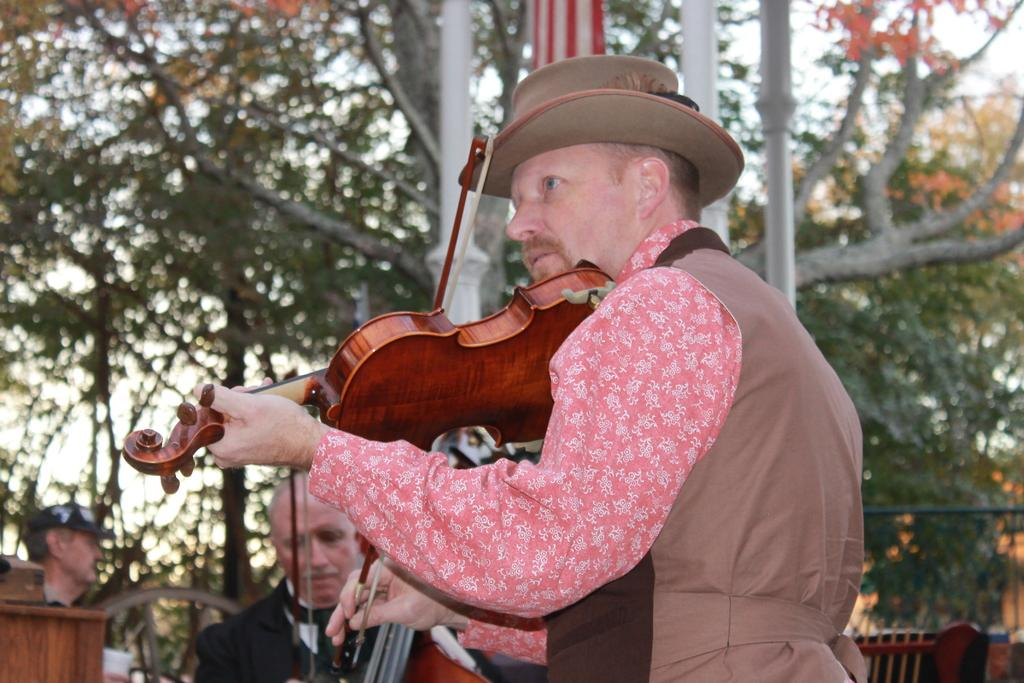Hat: (456, 54, 745, 208)
